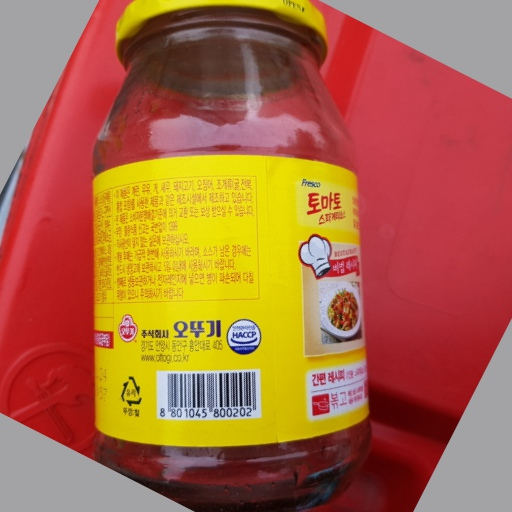Glass_5: (90, 2, 371, 509)
